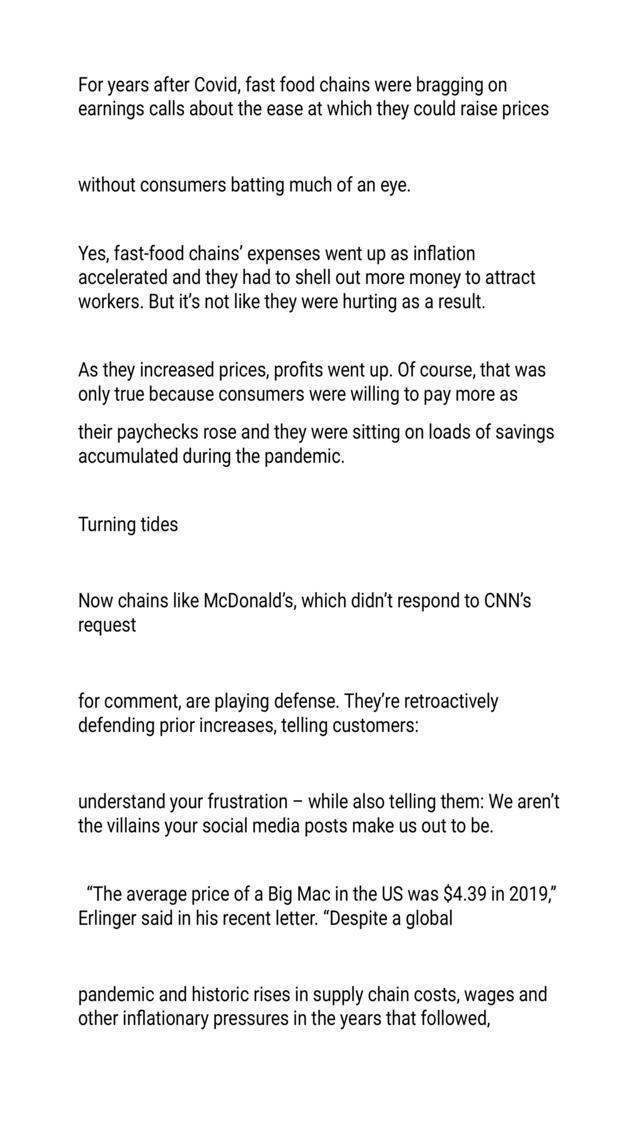Text: (71, 418, 558, 446), (72, 99, 556, 125), (73, 788, 566, 813), (72, 586, 536, 611), (72, 72, 514, 98), (72, 358, 550, 382), (70, 384, 530, 408), (72, 266, 541, 289), (73, 815, 504, 840), (74, 905, 458, 933), (74, 983, 558, 1005), (74, 241, 482, 267), (74, 882, 565, 903), (73, 292, 491, 315), (76, 1008, 496, 1030), (73, 691, 504, 712), (70, 714, 428, 739), (74, 172, 413, 198), (71, 444, 348, 472), (74, 509, 182, 539), (72, 614, 144, 639)
